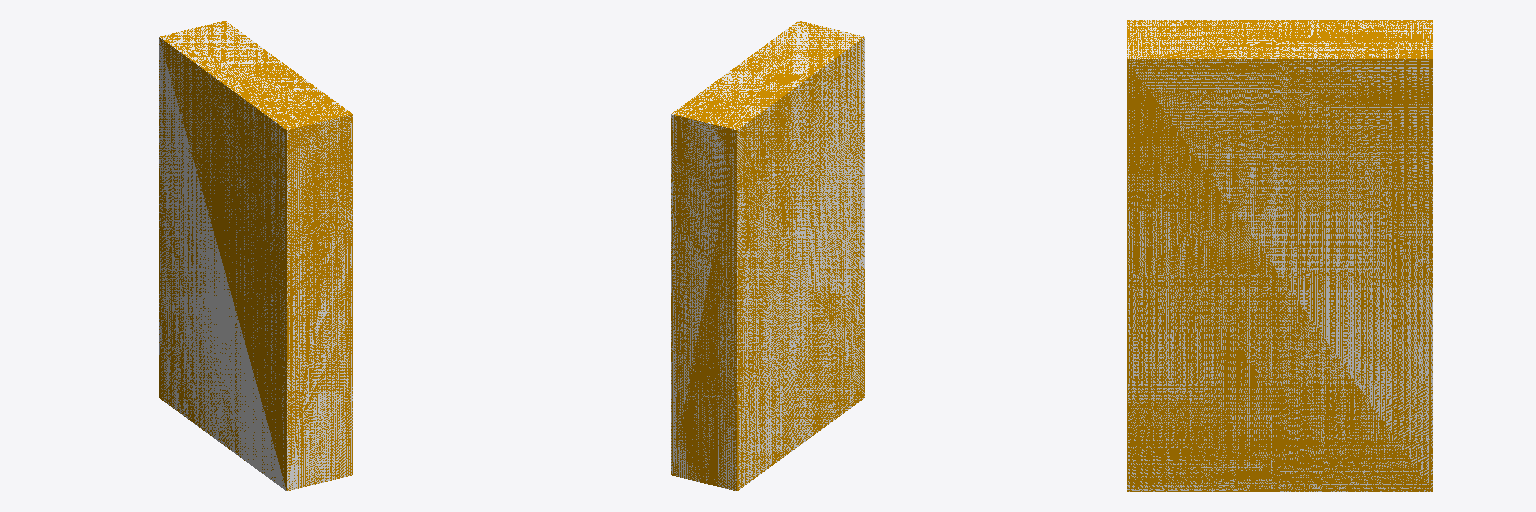
URDF robot description (my_object):
<?xml version="1.0" ?> 
<robot name="my_object" static="true">
  <link name="base_link">
  <inertial>
    <mass value="0.693" />
    <origin xyz="0 0 0.0" />
    <inertia ixx="1.0" ixy="0.0" ixz="0.0" iyy="1.0" iyz="0.0" izz="1.0"/>
  </inertial>
  <visual>
   <origin xyz="0 0 0.0" rpy="0 0 0" />
   <geometry>
     <mesh filename="package://cob_gazebo_objects/Media/models/book_death.dae"/>
   </geometry>
  </visual>
  <collision>
   <origin xyz="0 0 0" rpy="0 0 0" />
   <geometry>
     <box size="0.04 0.135 0.21" />
   </geometry>
  </collision>     
  </link>

<gazebo>
	<static>true</static>
</gazebo>

<gazebo reference="base_link">
  <mu1>50.0</mu1>
  <mu2>50.0</mu2>
  <kp>1000000.0</kp>
  <kd>1.0</kd>
</gazebo>
</robot>

--- Render facts (derived) ---
Views: 3 orthographic renders of the robot side by side, from view 1: azimuth 30°, elevation 25°; view 2: azimuth 150°, elevation 25°; view 3: azimuth 270°, elevation 25°.
Model my_object with 1 links and 0 joints (none), rooted at base_link, posed all joints at 0.
Links seen in each view (by area): view 1: base_link; view 2: base_link; view 3: base_link.
Link boxes in pixels (x1,y1,x2,y2): base_link: (159,21,352,490); base_link: (671,21,864,490); base_link: (1127,20,1432,491).
Size in the robot's own frame: 0.0403 by 0.1345 by 0.2096 metres.
1 mesh visuals loaded from 1 distinct referenced files (1 Collada DAE).